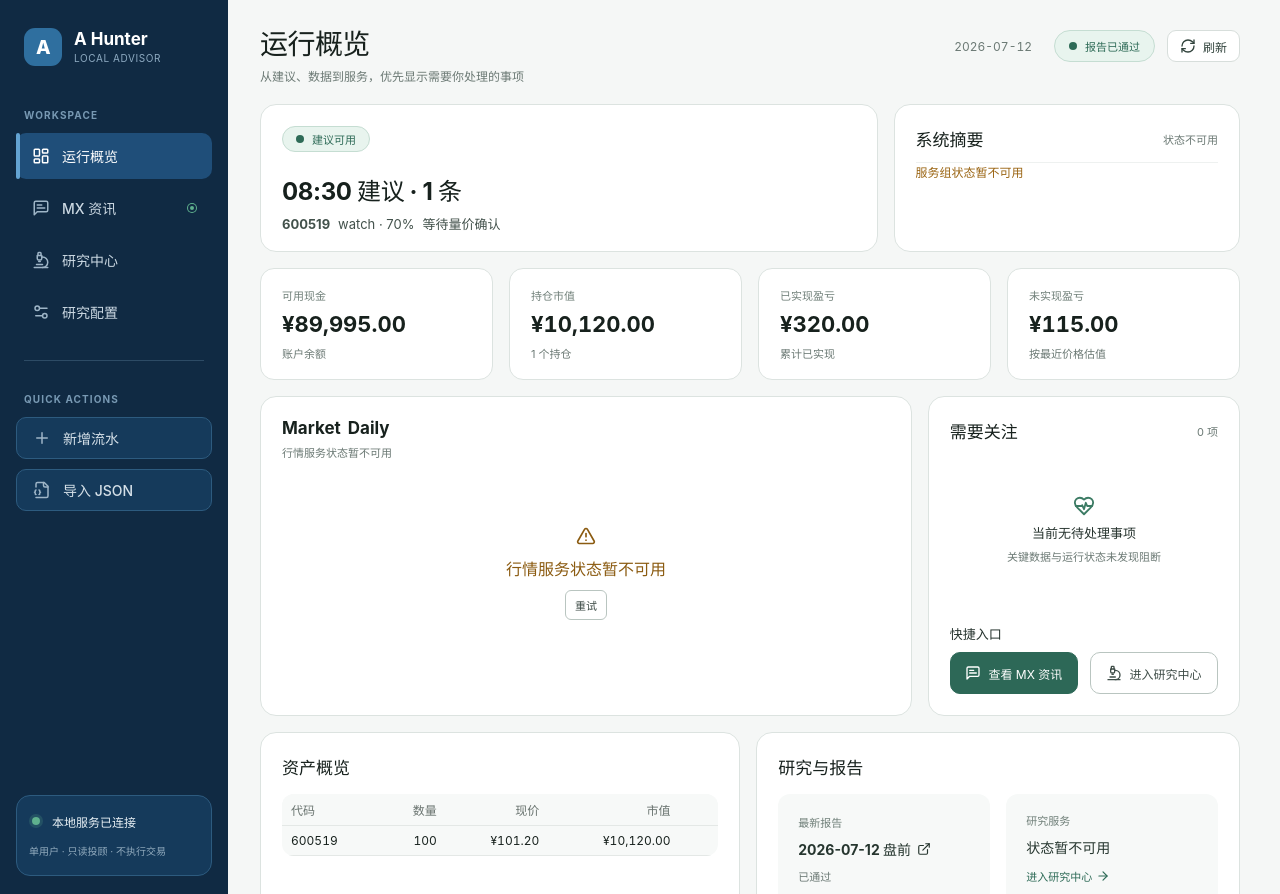
Test case: advisor dashboard › fails closed after refresh failure while retaining a stale snapshot
Check: the text "等待量价确认" is shown, box [422,215,500,234]
Click the button with aria-label "刷新当前状态": (1204, 46) [1167,30,1240,62]
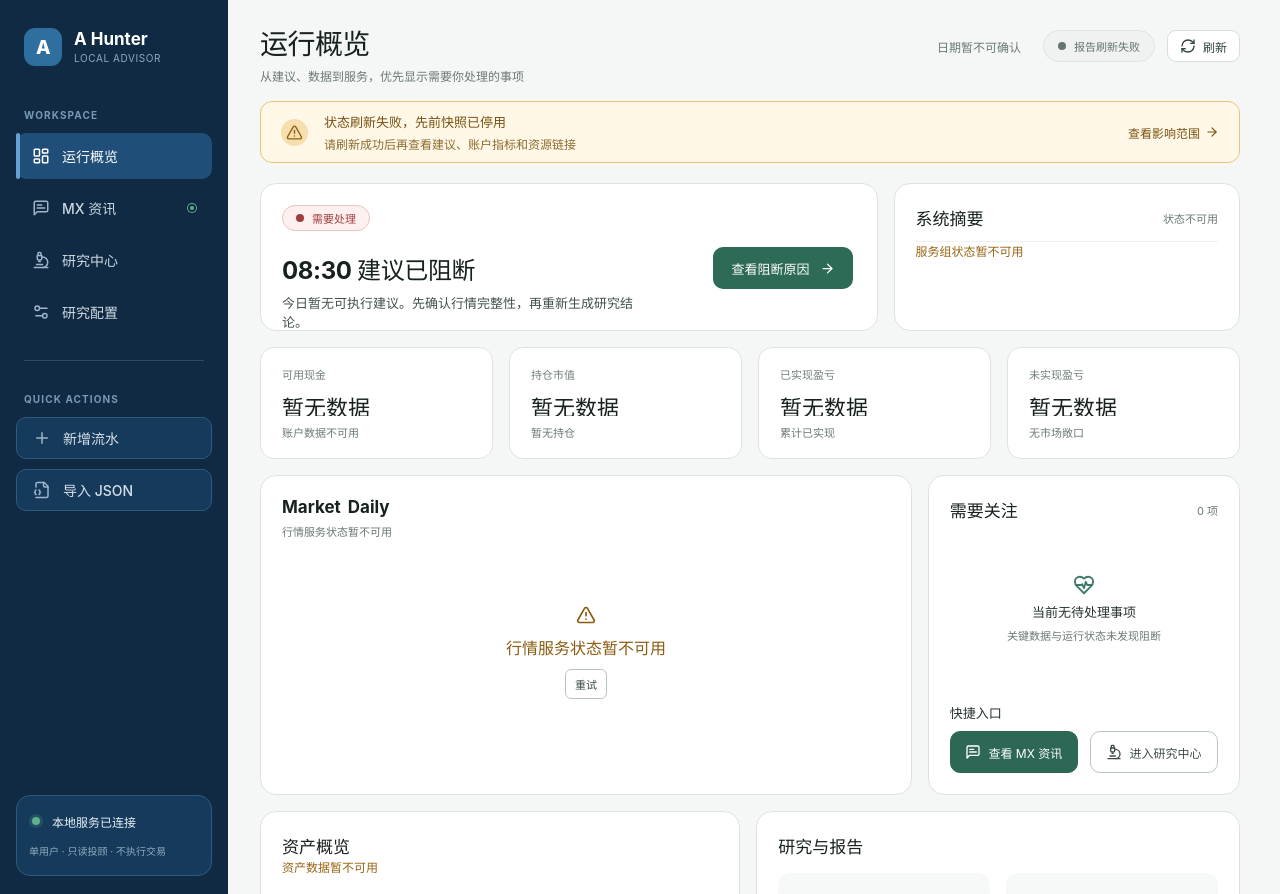
Check: the text "状态刷新失败，先前快照已停用" is shown, box [324,114,506,130]
Check: the text "等待量价确认" is gone
Check: the text "¥89,995.00" is gone
